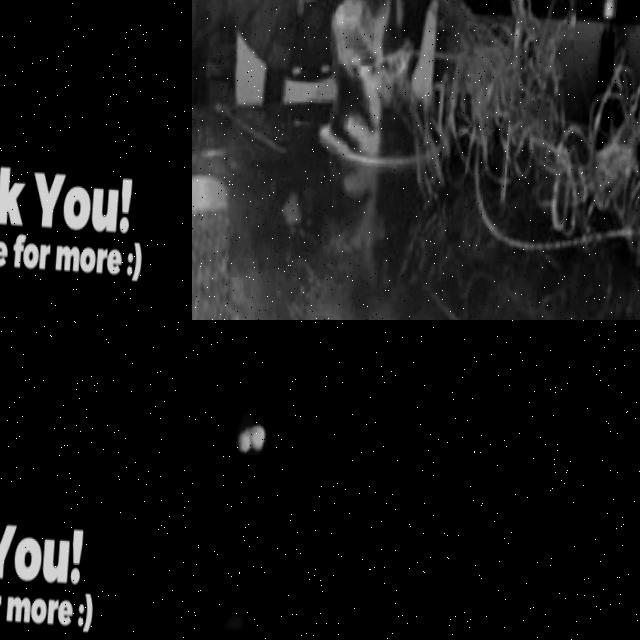spaghetti: (425, 0, 640, 287)
